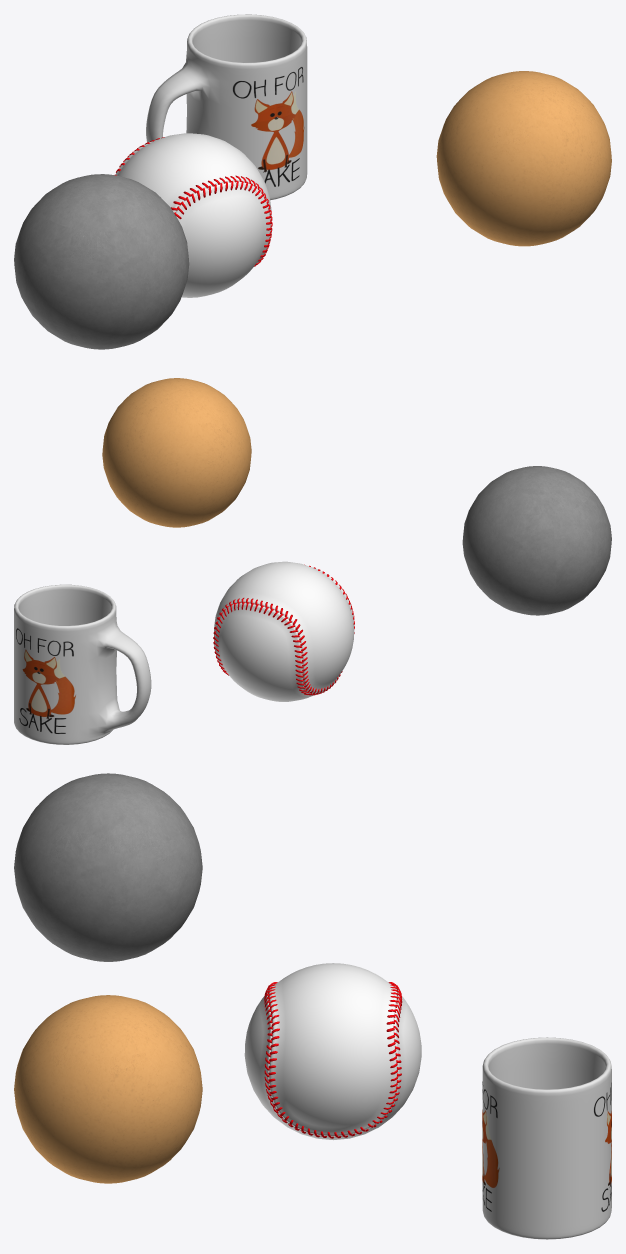
Rendered from gltf.gltf.
The picture shows the model from 3 angles, top to bottom: view 1: azimuth 30°, elevation 25°; view 2: azimuth 150°, elevation 25°; view 3: azimuth 270°, elevation 25°; orthographic projection. The views are drawn at different scales.
Visible parts, largest first — view 1: Sphere.001, Sphere, Whte Mug, Bola, Print Back, Costuras; view 2: Sphere, Sphere.001, Bola, Whte Mug, Print Front, Costuras; view 3: Sphere.001, Sphere, Whte Mug, Bola, Costuras, Print Back.
Boxes of the visible parts, <box> form: Sphere.001: <box>436,71,611,246</box>; Sphere: <box>14,174,189,349</box>; Whte Mug: <box>146,14,307,200</box>; Bola: <box>115,133,271,297</box>; Print Back: <box>232,66,304,186</box>; Costuras: <box>114,137,272,266</box>; Sphere: <box>462,466,611,615</box>; Sphere.001: <box>102,378,251,527</box>; Bola: <box>214,561,354,701</box>; Whte Mug: <box>14,584,151,744</box>; Print Front: <box>16,628,76,733</box>; Costuras: <box>213,564,354,695</box>; Sphere.001: <box>14,995,202,1183</box>; Sphere: <box>14,773,202,961</box>; Whte Mug: <box>482,1037,611,1239</box>; Bola: <box>244,963,421,1140</box>; Costuras: <box>264,982,402,1138</box>; Print Back: <box>482,1081,499,1211</box>.
Size of what is drawn, in the model's own units: 3.02 by 1.16 by 2.53.
6 materials, 5 textured.
